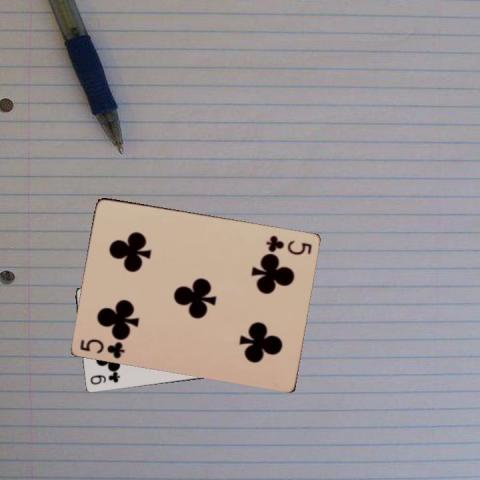5c: (77, 335, 127, 360), (264, 232, 314, 256)
9c: (87, 371, 121, 386)
